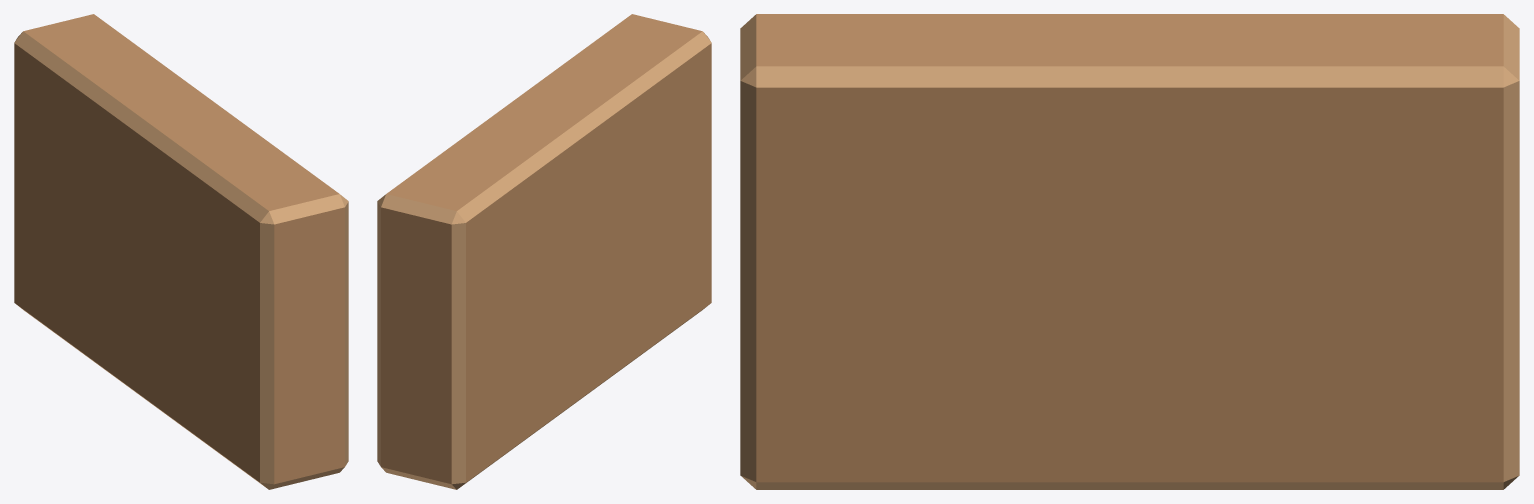
Rendered from Wall_E_3_1.glb.
3 renders of one model, left to right at view 1: azimuth 30°, elevation 25°; view 2: azimuth 150°, elevation 25°; view 3: azimuth 270°, elevation 25°, orthographic. The views are drawn at different scales.
Parts seen in each view (by area): view 1: Wall_E_3_1; view 2: Wall_E_3_1; view 3: Wall_E_3_1.
Boxes of the visible parts, x1,y1,x2,y2 form: Wall_E_3_1: (14,14,348,489); Wall_E_3_1: (377,14,711,489); Wall_E_3_1: (740,14,1519,489).
Size of the model in its own units: 0.4 by 1.2 by 2.
1 material, 1 textured.
